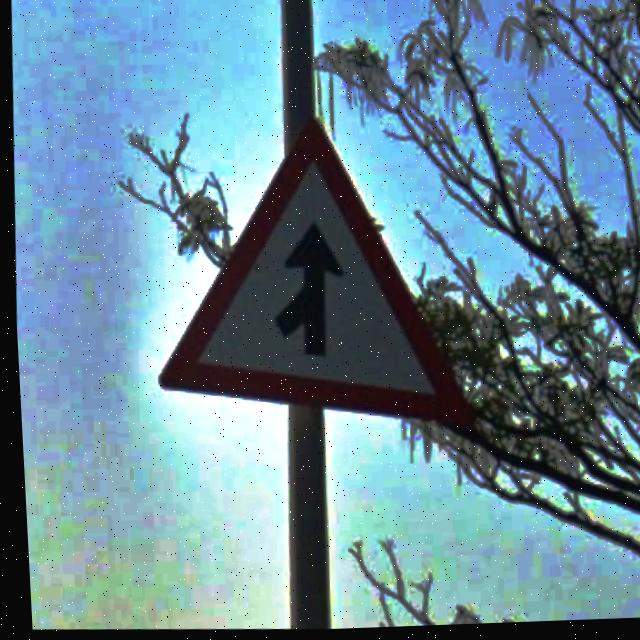leftmerge: (154, 120, 469, 436)
